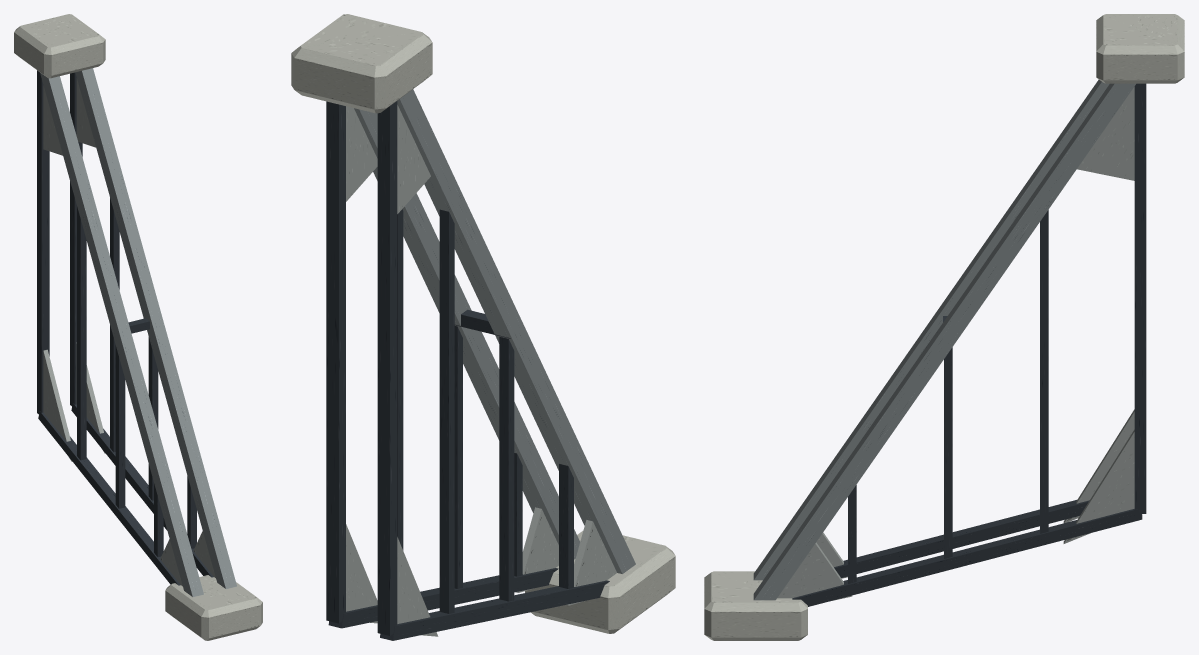
File: RingSupport.fbx
The picture shows the model from 3 angles, left to right: view 1: azimuth 30°, elevation 25°; view 2: azimuth 150°, elevation 25°; view 3: azimuth 270°, elevation 25°; orthographic projection. The views are drawn at different scales.
Visible parts, largest first — view 1: RingSupport; view 2: RingSupport; view 3: RingSupport.
Boxes of the visible parts, <box> form: RingSupport: <box>14,14,262,640</box>; RingSupport: <box>291,14,675,640</box>; RingSupport: <box>704,14,1184,640</box>.
Size of the model in its own units: 230 by 1710 by 1250.
